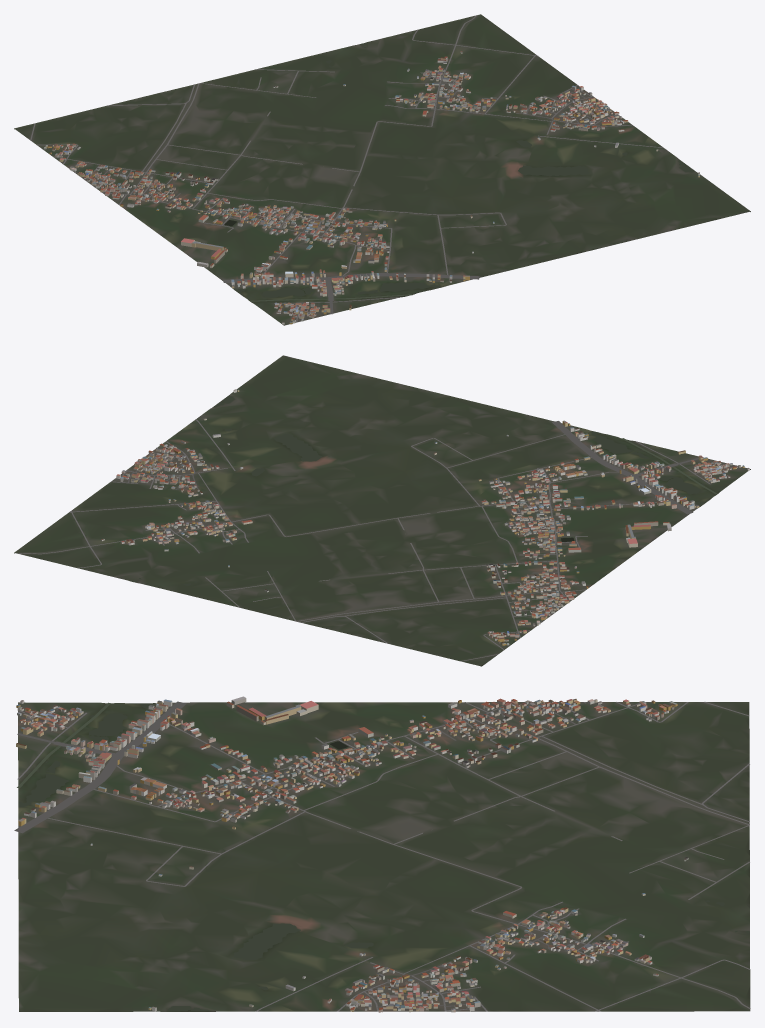
3 views of the same model, one above another, from view 1: azimuth 30°, elevation 25°; view 2: azimuth 150°, elevation 25°; view 3: azimuth 270°, elevation 25° (orthographic). The views are drawn at different scales.
Parts seen in each view (by area): view 1: ground, buildings, roads, water; view 2: ground, buildings, roads, water; view 3: ground, buildings, roads, water.
Boxes of the visible parts, left/top/right/bottom form: ground: left=14, top=14, right=750, bottom=325; buildings: left=44, top=51, right=699, bottom=324; roads: left=30, top=15, right=662, bottom=322; water: left=224, top=43, right=695, bottom=301; ground: left=14, top=355, right=750, bottom=666; buildings: left=101, top=389, right=749, bottom=645; roads: left=18, top=419, right=735, bottom=661; water: left=132, top=395, right=717, bottom=585; ground: left=18, top=702, right=750, bottom=1011; buildings: left=16, top=696, right=688, bottom=1012; roads: left=14, top=701, right=750, bottom=1011; water: left=17, top=702, right=749, bottom=1011.
Size of the model in its own units: 1417 by 21.44 by 1412.
